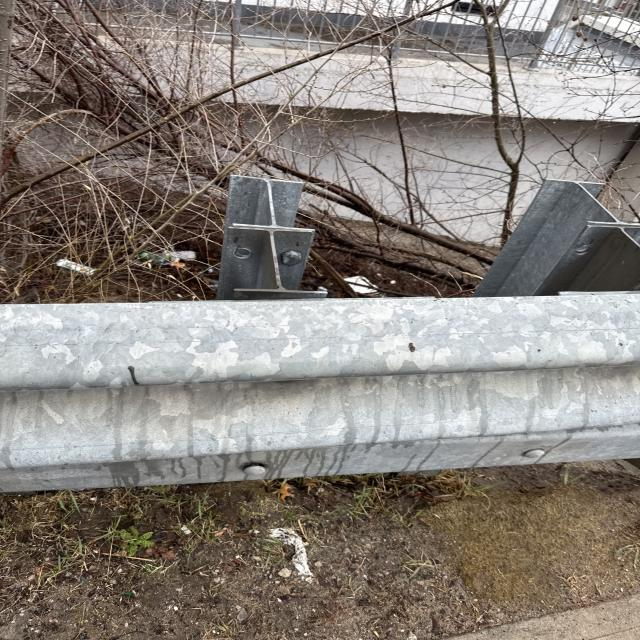Guard rail: (24, 295, 638, 483)
